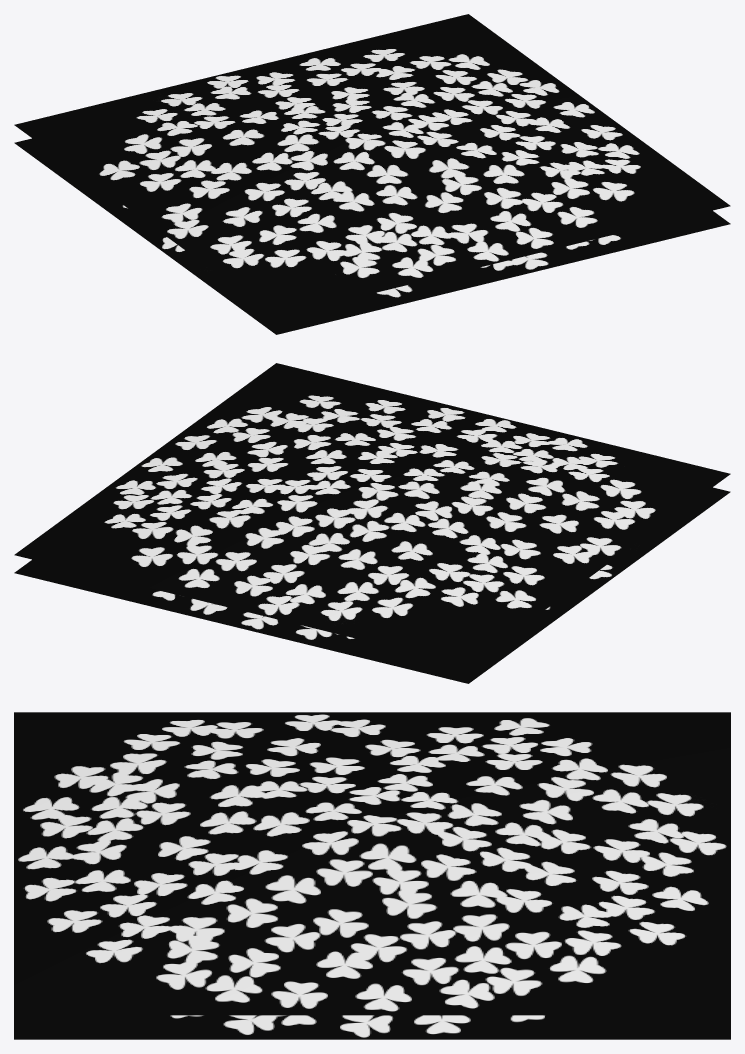
The model's file is Clover1.fbx.
3 renders of one model, top to bottom at view 1: azimuth 30°, elevation 25°; view 2: azimuth 150°, elevation 25°; view 3: azimuth 270°, elevation 25°, orthographic. The views are drawn at different scales.
Parts seen in each view (by area): view 1: clover_texture_1; view 2: clover_texture_1; view 3: clover_texture_1.
Boxes of the visible parts, <box> form: clover_texture_1: <box>14,14,730,334</box>; clover_texture_1: <box>14,363,730,683</box>; clover_texture_1: <box>14,712,730,1039</box>.
Size of the model in its own units: 100 by 9.36 by 100.
1 material, 1 textured.
